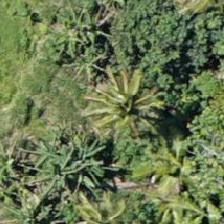coconut_tree: (122, 114, 212, 204), (70, 56, 160, 146), (56, 173, 146, 223)
